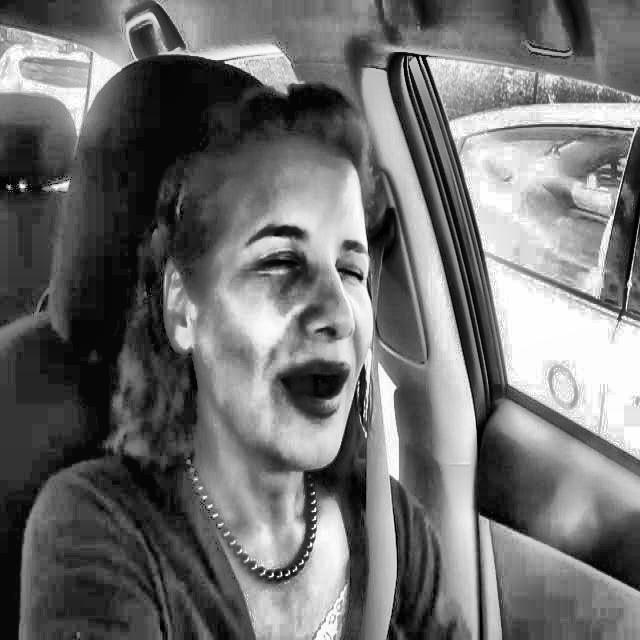closed_eyes: (245, 235, 314, 297), (329, 247, 379, 301)
open_mouth: (263, 343, 374, 440)
